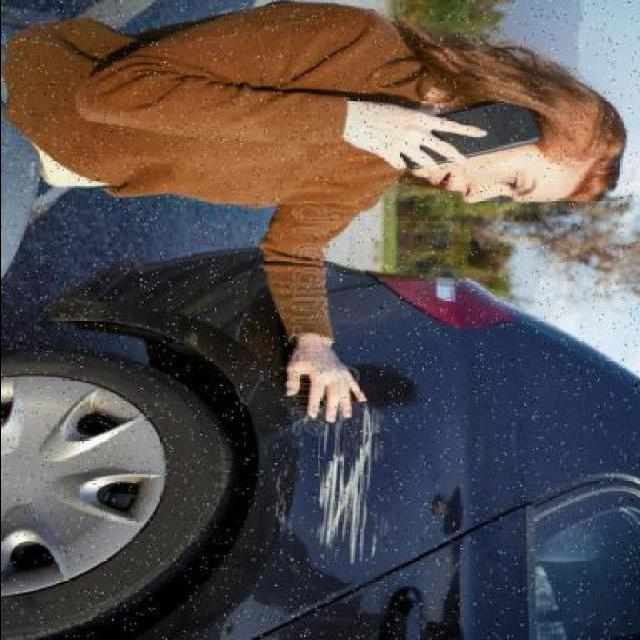quaterpanel-dent: (201, 299, 512, 580)
